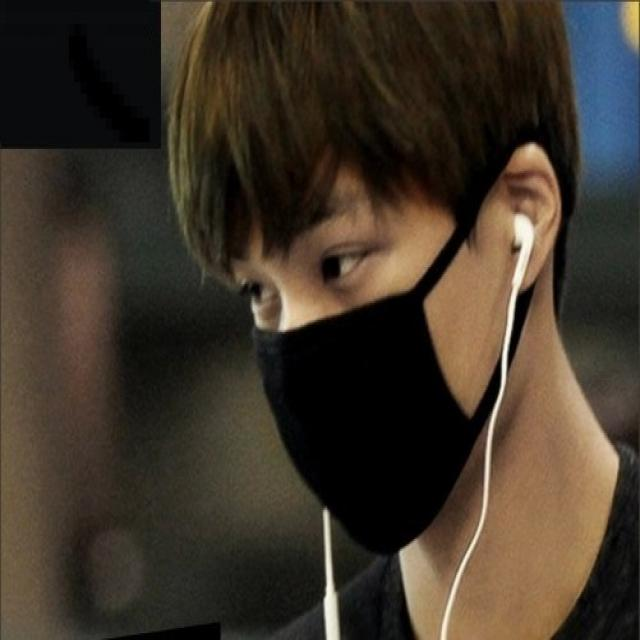mask: (234, 100, 499, 557)
